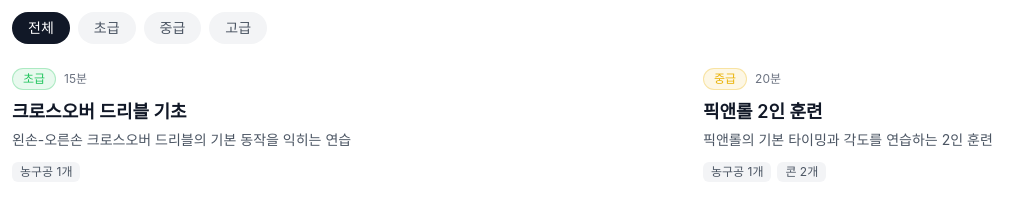
DrillListWithFilter › 중급 필터를 적용하면 중급만 표시한다
The image size is (1009, 199).
Click the button "중급" at (172, 28), box [144, 12, 201, 44]
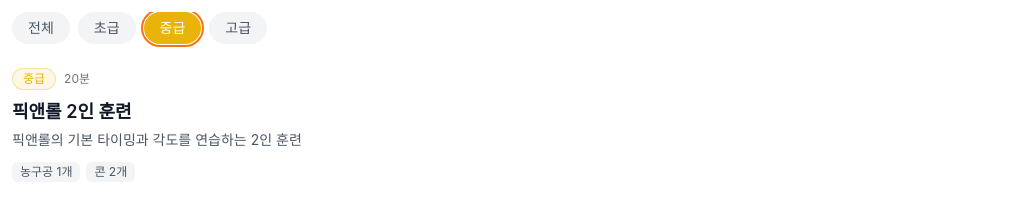
Expected: the heading "픽앤롤 2인 훈련" is shown, [12, 101, 132, 122]
Expected: the link "크로스오버 드리블 기초" is gone
